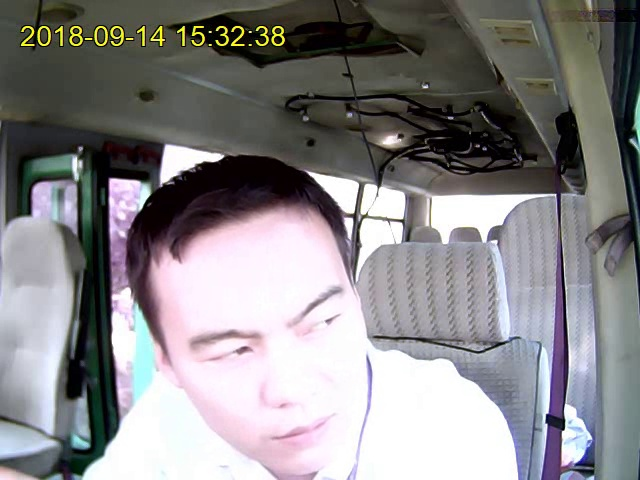closed_mouth: (265, 410, 336, 449)
open_eye: (301, 311, 344, 335), (204, 344, 255, 364)
